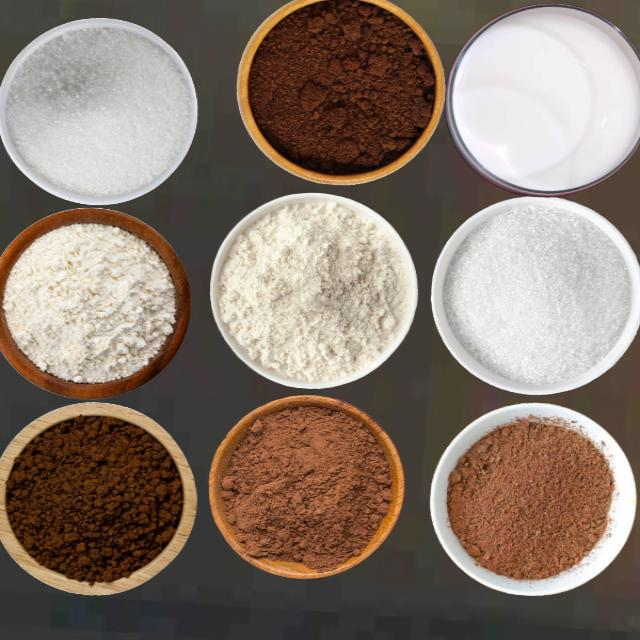Cocoa: (218, 403, 392, 571), (446, 415, 614, 581)
Coffee: (246, 0, 436, 176), (5, 413, 183, 584)
Flour: (217, 199, 409, 383), (2, 221, 176, 384)
Sugar: (442, 202, 630, 385), (4, 24, 193, 197)
